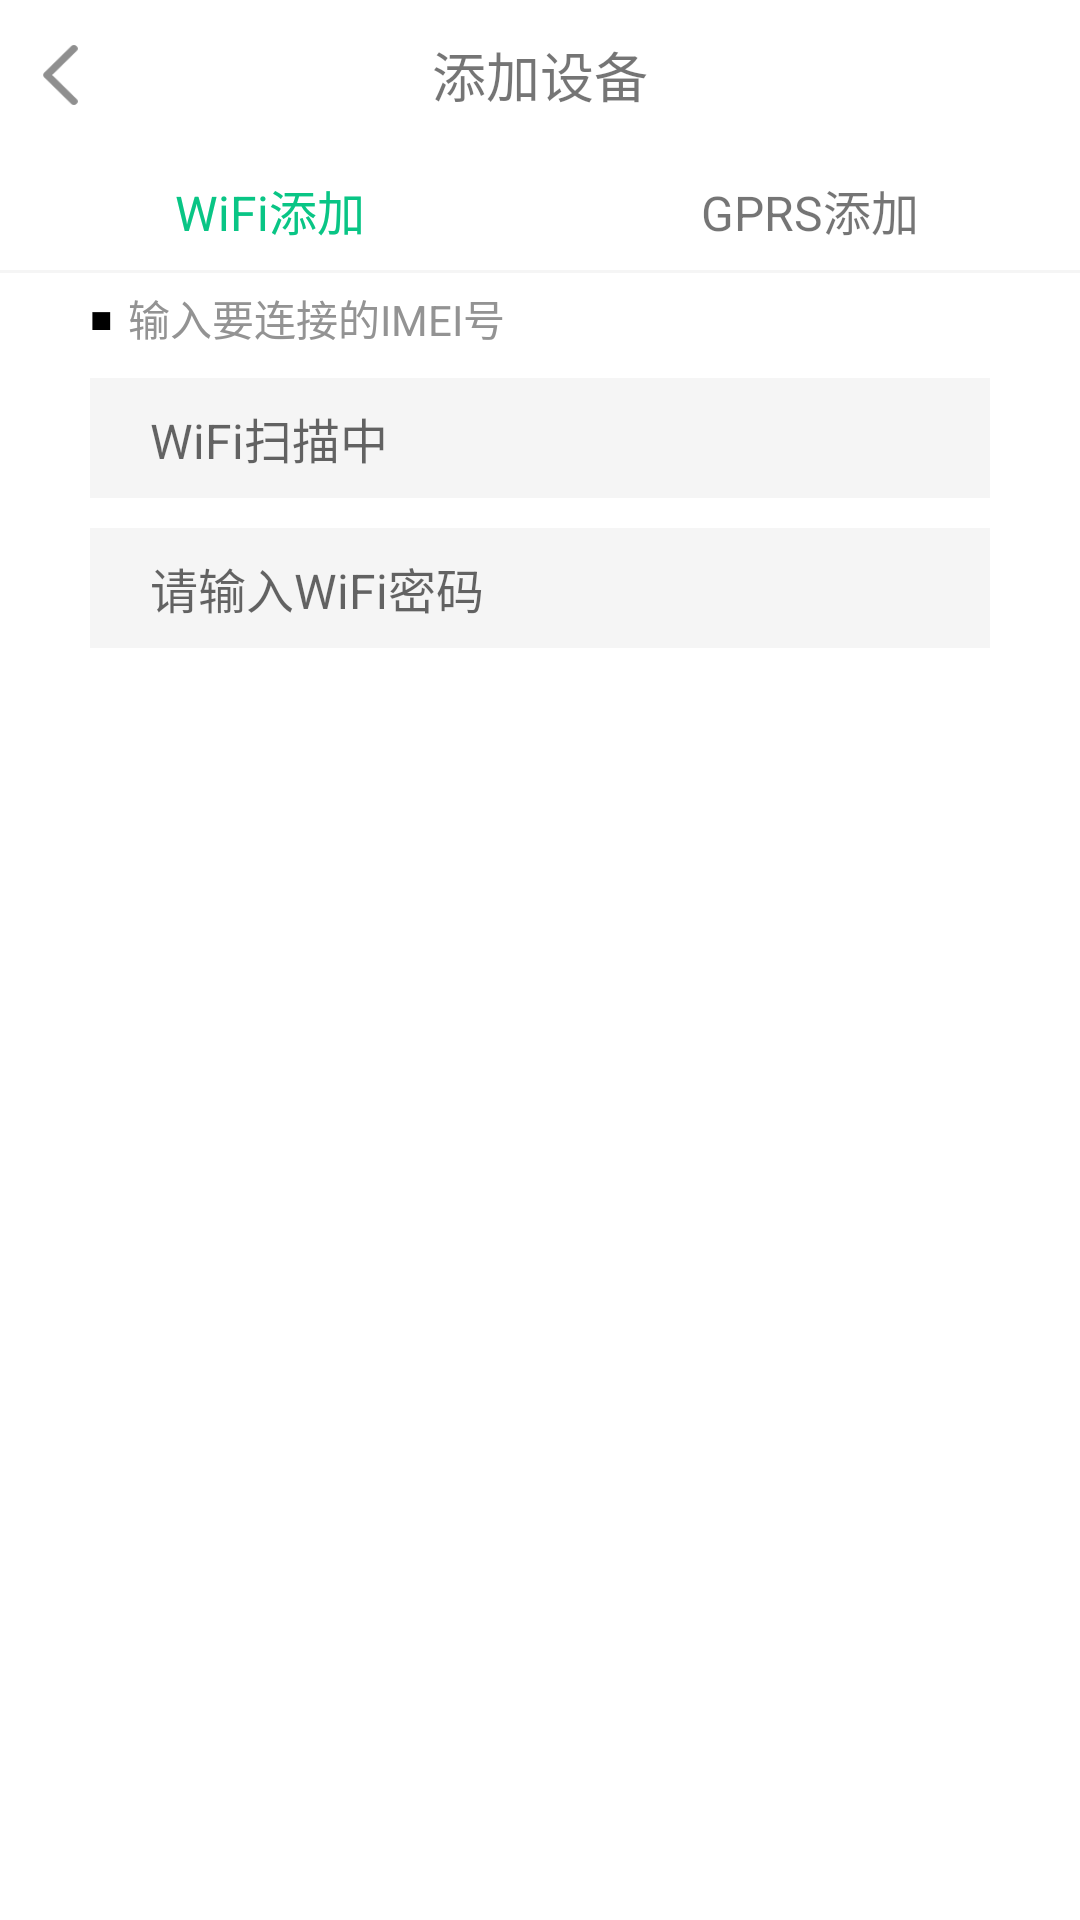

Screen size 1080 × 1920. Icon name, then its center in pixels as (x,y):
back: (60,75)
